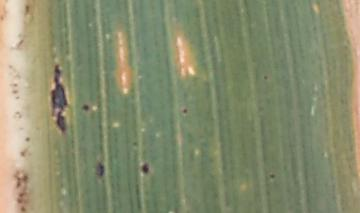tarspot: (48, 63, 71, 134), (94, 158, 105, 180), (81, 103, 91, 113), (141, 161, 149, 173), (23, 4, 32, 14), (267, 171, 276, 180), (261, 74, 270, 82), (130, 141, 139, 149), (23, 134, 31, 142), (181, 107, 188, 115)
